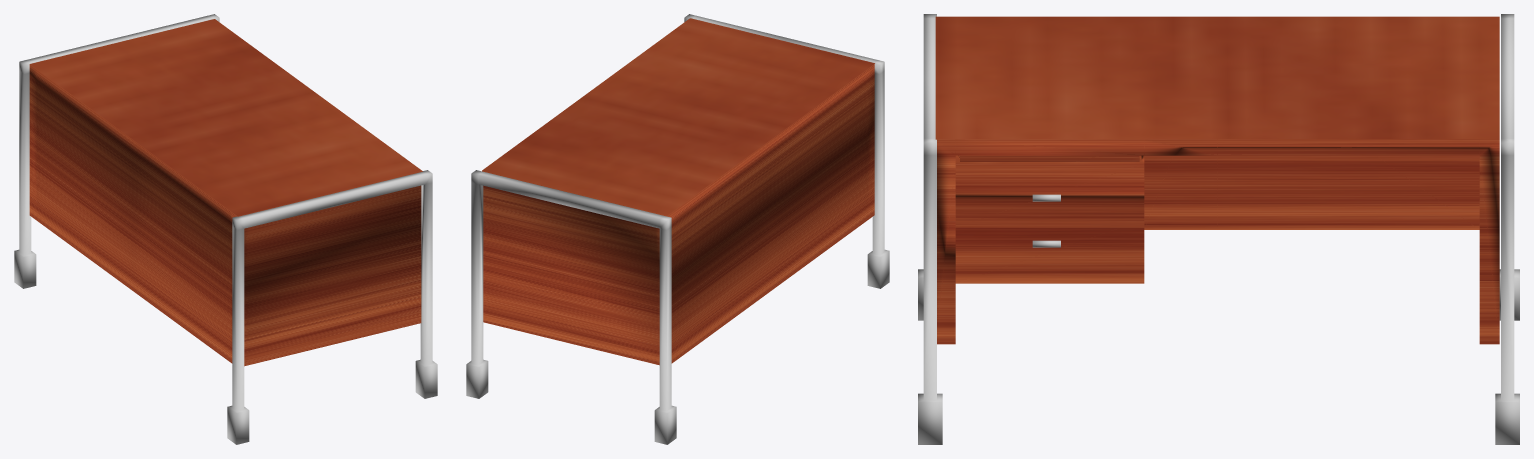
The model's file is Desk.fbx.
3 views of the same model, side by side, from view 1: azimuth 30°, elevation 25°; view 2: azimuth 150°, elevation 25°; view 3: azimuth 270°, elevation 25° (orthographic). The views are drawn at different scales.
Parts seen in each view (by area): view 1: DeskBody, DeskFrame; view 2: DeskBody, DeskFrame; view 3: DeskBody, DeskFrame.
Boxes of the visible parts, x1,y1,x2,y2 form: DeskBody: (29,19,422,366); DeskFrame: (14,14,437,444); DeskBody: (482,18,874,365); DeskFrame: (466,14,889,444); DeskBody: (935,16,1499,344); DeskFrame: (918,14,1519,444).
Bounding box in the file's own units: 345 × 351 × 637.
